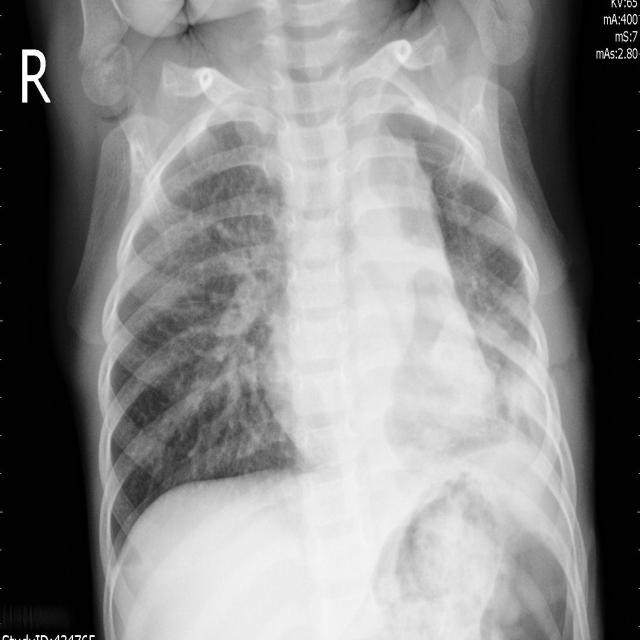high-pneumonia: (452, 252, 558, 424)
low-pneumonia: (194, 192, 290, 452)
